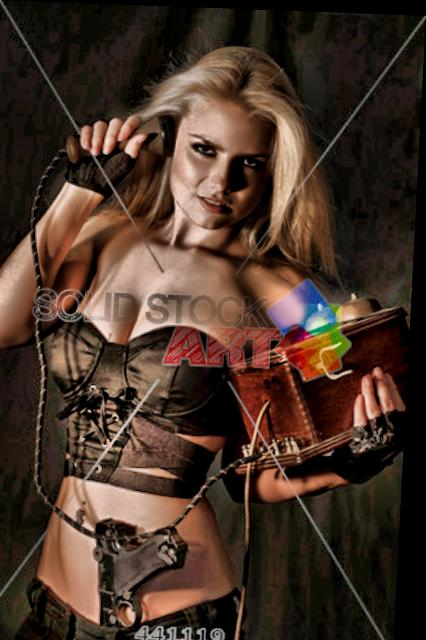pistol: (96, 517, 193, 639)
